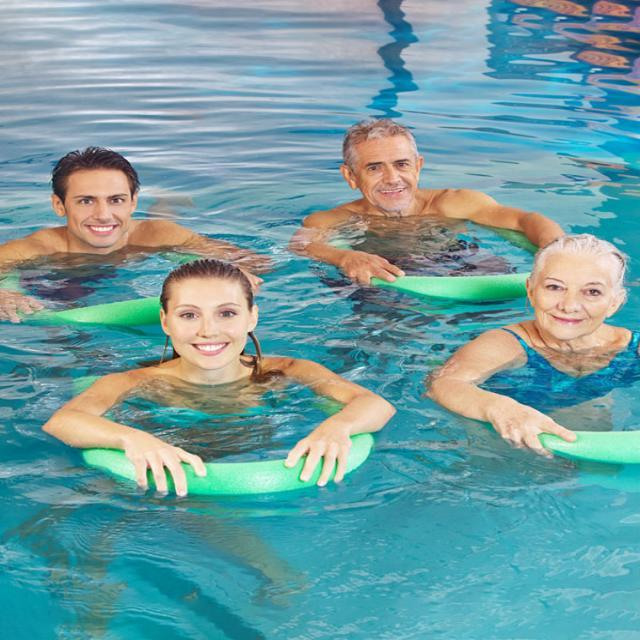Swimming: (41, 263, 396, 499), (428, 238, 640, 436), (327, 116, 528, 229), (0, 143, 190, 256)
